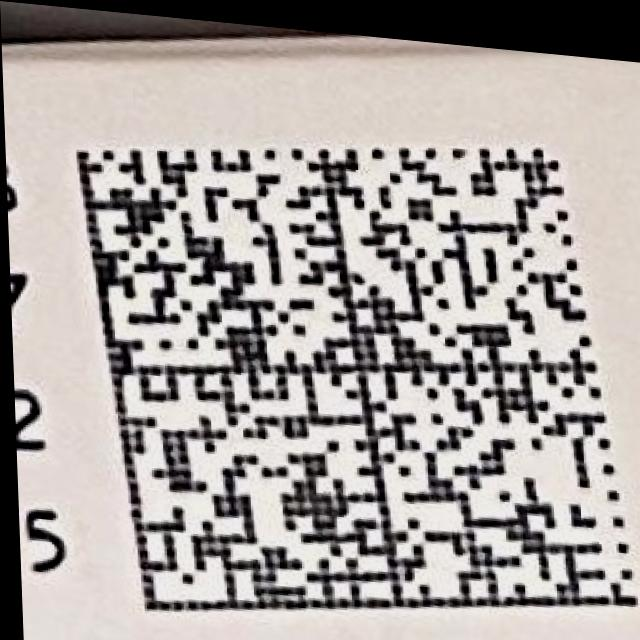QR_CODE: (71, 103, 633, 640)
